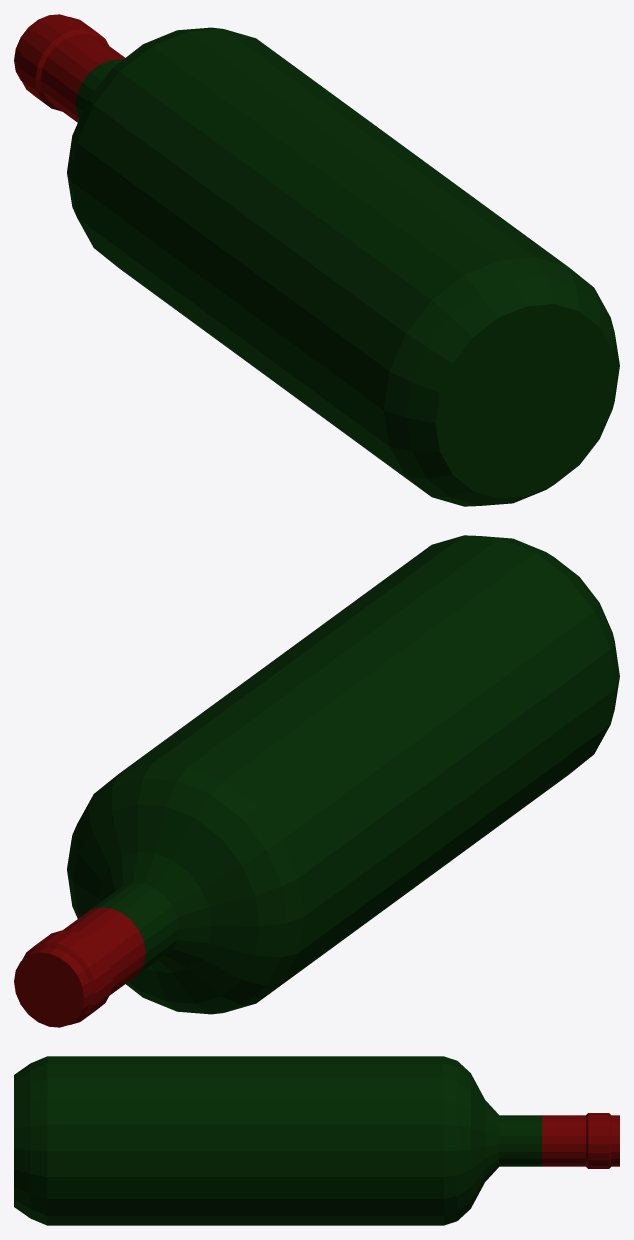
The model's file is wineBottle.fbx.
3 views of the same model, one above another, from view 1: azimuth 30°, elevation 25°; view 2: azimuth 150°, elevation 25°; view 3: azimuth 270°, elevation 25° (orthographic). The views are drawn at different scales.
Parts seen in each view (by area): view 1: Cylinder; view 2: Cylinder; view 3: Cylinder.
Boxes of the visible parts, x1,y1,x2,y2 form: Cylinder: (14,14,619,506); Cylinder: (14,535,619,1027); Cylinder: (14,1056,619,1225).
Bounding box in the file's own units: 513 × 513 × 1822.
